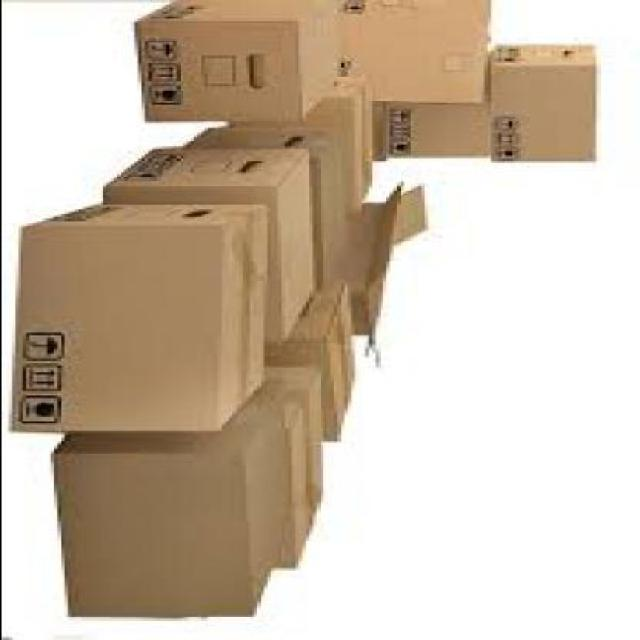CARDBOARD: (14, 200, 269, 431), (49, 403, 280, 617), (102, 147, 315, 338), (172, 0, 490, 100), (186, 126, 346, 280), (133, 0, 339, 118), (231, 366, 329, 566), (234, 69, 374, 208), (342, 179, 430, 361), (266, 282, 357, 440), (490, 42, 601, 161), (367, 82, 490, 158)
